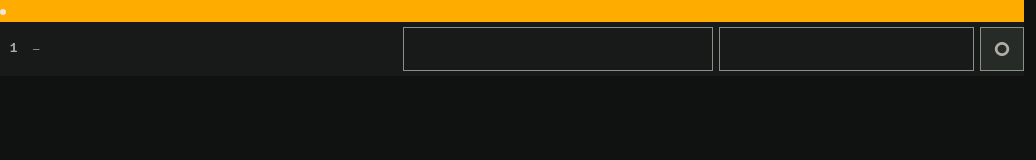
SetRow persistence ordering › does not complete when the pending persistence operation fails
The image size is (1036, 160).
Type "8" into the 2nd number field named "Reps" at [847, 49], box [719,27,974,71]
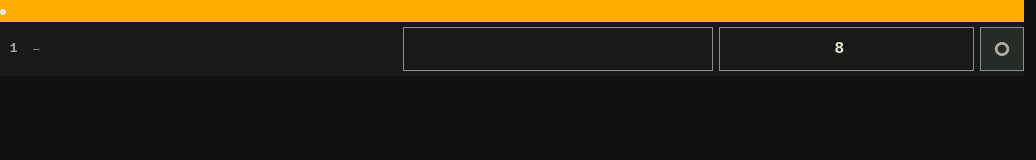
Click the button named "Mark complete" at [1002, 49], box [980,27,1024,71]
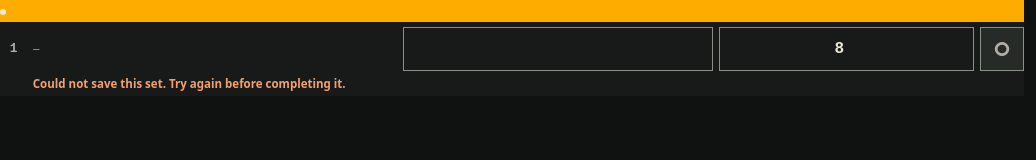
Expected: the message shows "Could not save this set", [33,76,346,91]
